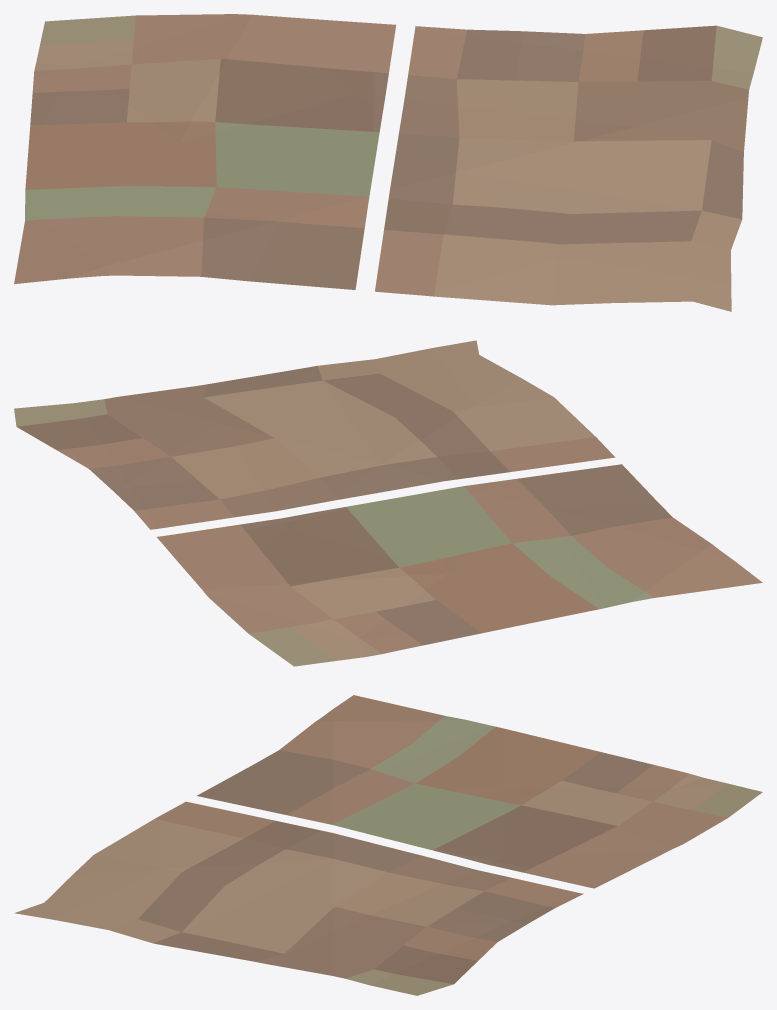
Rendered from farm_4_-2_soil.glb.
3 renders of one model, top to bottom at view 1: azimuth 30°, elevation 25°; view 2: azimuth 150°, elevation 25°; view 3: azimuth 270°, elevation 25°, orthographic. The views are drawn at different scales.
Visible parts, largest first — view 1: geometry_0; view 2: geometry_0; view 3: geometry_0.
Part boxes in pixels (x1,y1,x2,y2): geometry_0: [14, 14, 762, 311]; geometry_0: [14, 340, 762, 666]; geometry_0: [14, 695, 762, 995].
Size of the model in its own units: 356 by 15.39 by 347.
